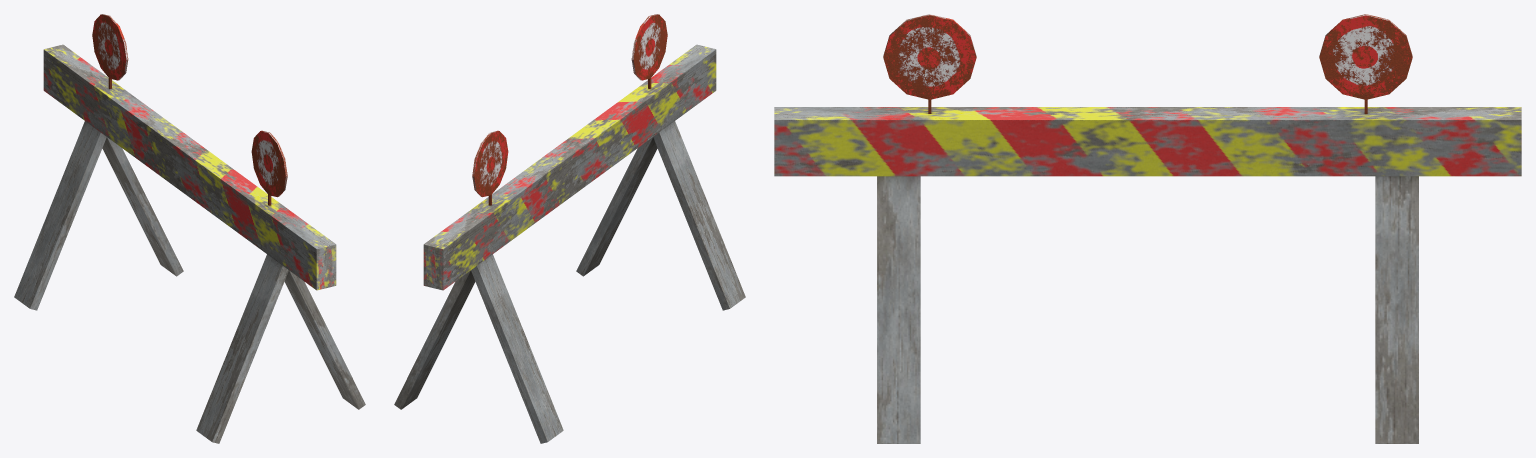
File: blockage.gltf
3 views of the same model, side by side, from view 1: azimuth 30°, elevation 25°; view 2: azimuth 150°, elevation 25°; view 3: azimuth 270°, elevation 25° (orthographic). The views are drawn at different scales.
Visible parts, largest first — view 1: blockage, Disk.001, Disk.002; view 2: blockage, Disk.001, Disk.002; view 3: blockage, Disk.001, Disk.002.
Boxes of the visible parts, x1,y1,x2,y2 form: blockage: (14,44,365,443); Disk.001: (92,14,128,88); Disk.002: (251,130,287,205); blockage: (394,44,745,443); Disk.001: (472,130,508,205); Disk.002: (631,14,667,88); blockage: (774,107,1521,443); Disk.001: (1319,14,1412,113); Disk.002: (883,14,976,113).
Bounding box in the file's own units: 0.7801 × 1.36 × 2.4.
Materials: 1 (1 with a texture image).
